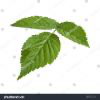Raspberry leaf: (20, 33, 61, 80), (56, 20, 91, 48), (8, 16, 60, 30)
